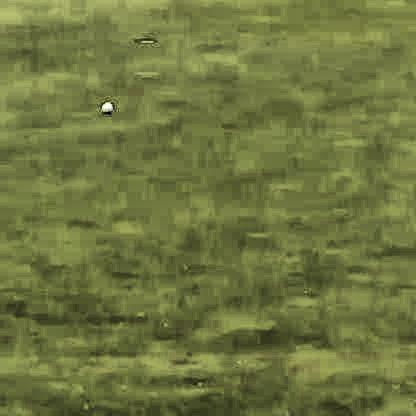golfball: (98, 97, 112, 112)
